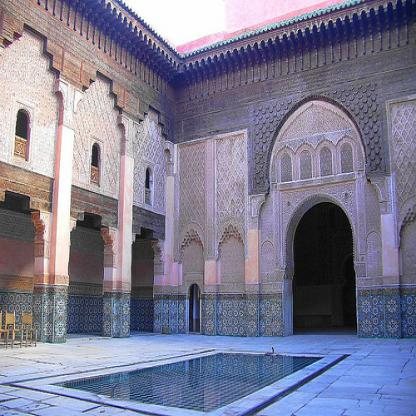chair: (5, 310, 24, 348), (21, 311, 37, 347), (0, 312, 10, 349)
